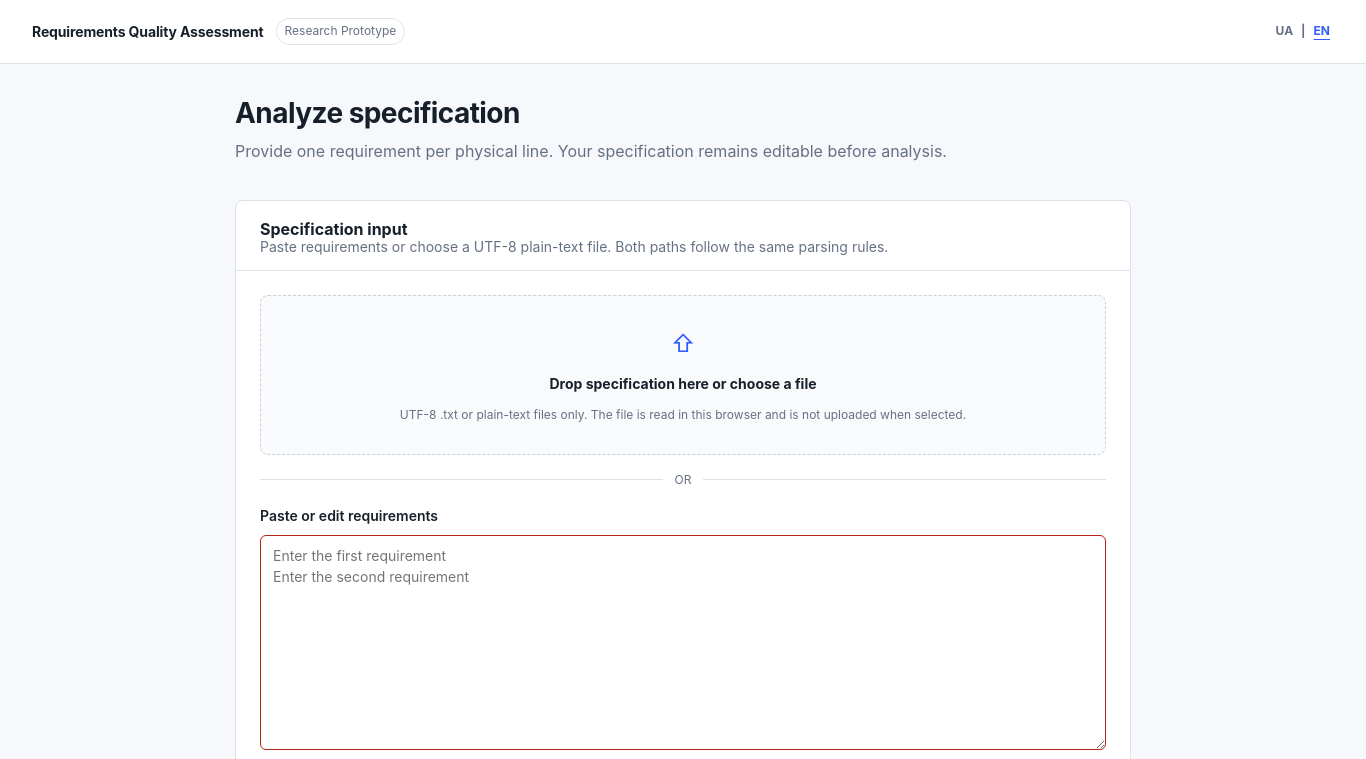
Scenario: RUI-10 Product Quality › opens Product Quality and switches locale without another analysis request or response mutation
The width and height of the screenshot is (1366, 759).
Type "Requirement" into the text box labelled "Paste or edit requirements". click: (683, 642)
box: [260, 535, 1106, 750]
(page scrolled)
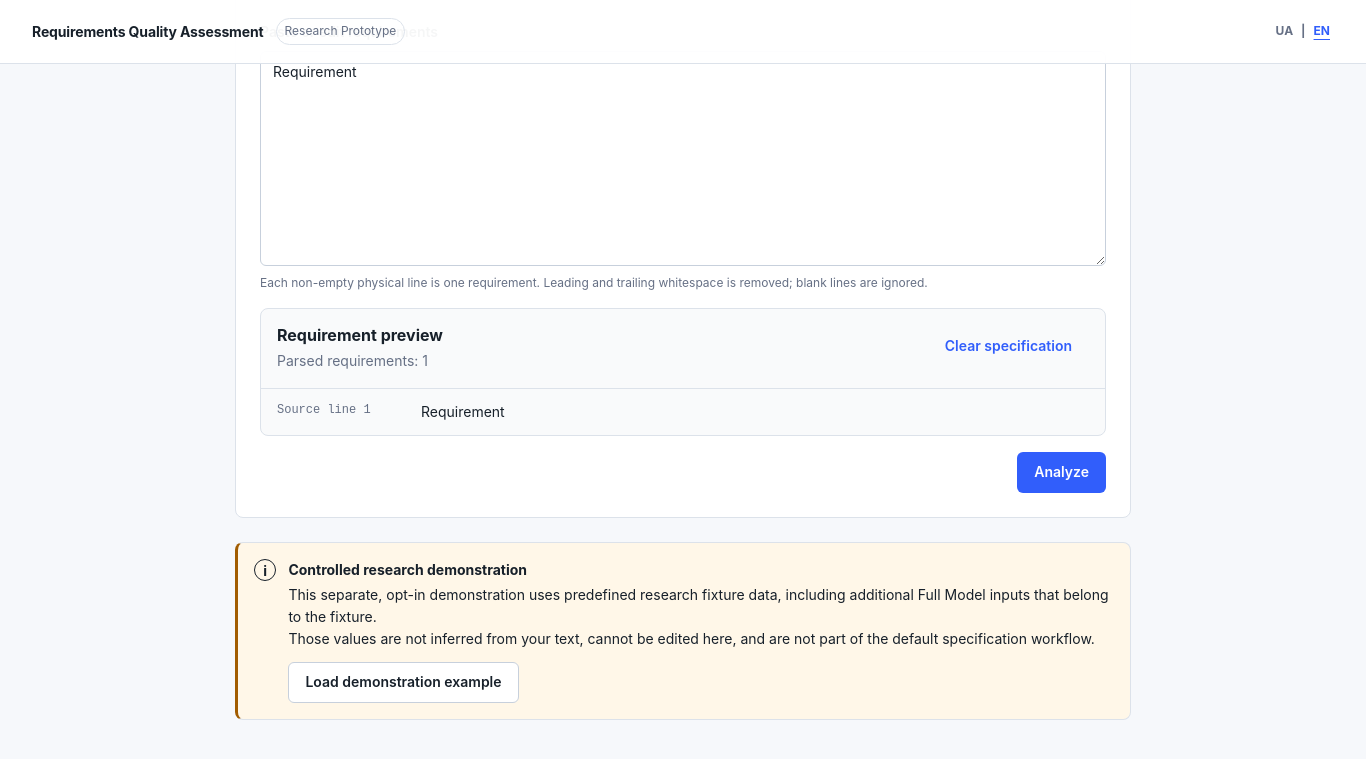
Click the button "Analyze". click: (1062, 472)
box: [1017, 452, 1106, 493]
(page scrolled)
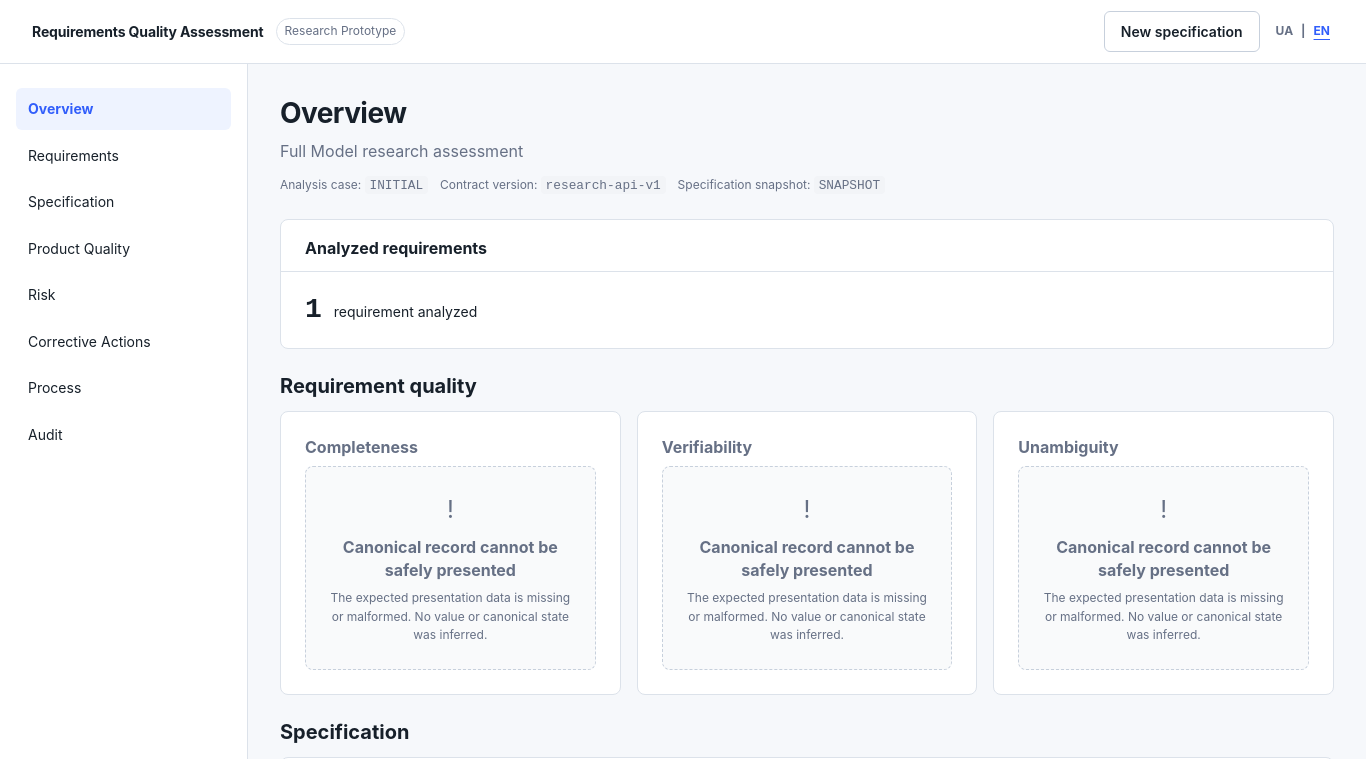
Expected: the heading "Overview" is shown, [280, 96, 406, 130]
Click the button "Product Quality". click: (124, 249)
box: [16, 227, 231, 270]
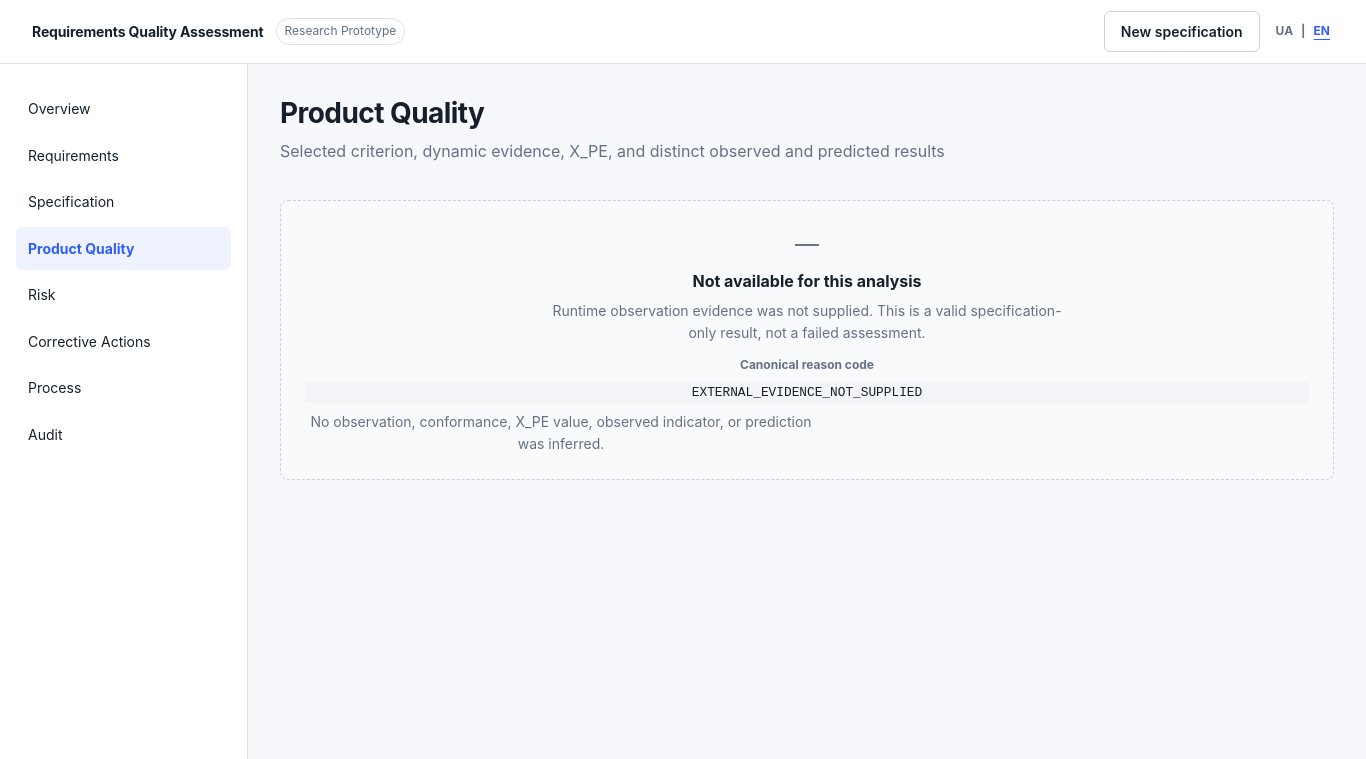
Expected: the text "EXTERNAL_EVIDENCE_NOT_SUPPLIED" is shown, [305, 382, 1309, 403]
Click the button with aria-label "Ukrainian". click: (1284, 32)
box: [1272, 18, 1297, 45]
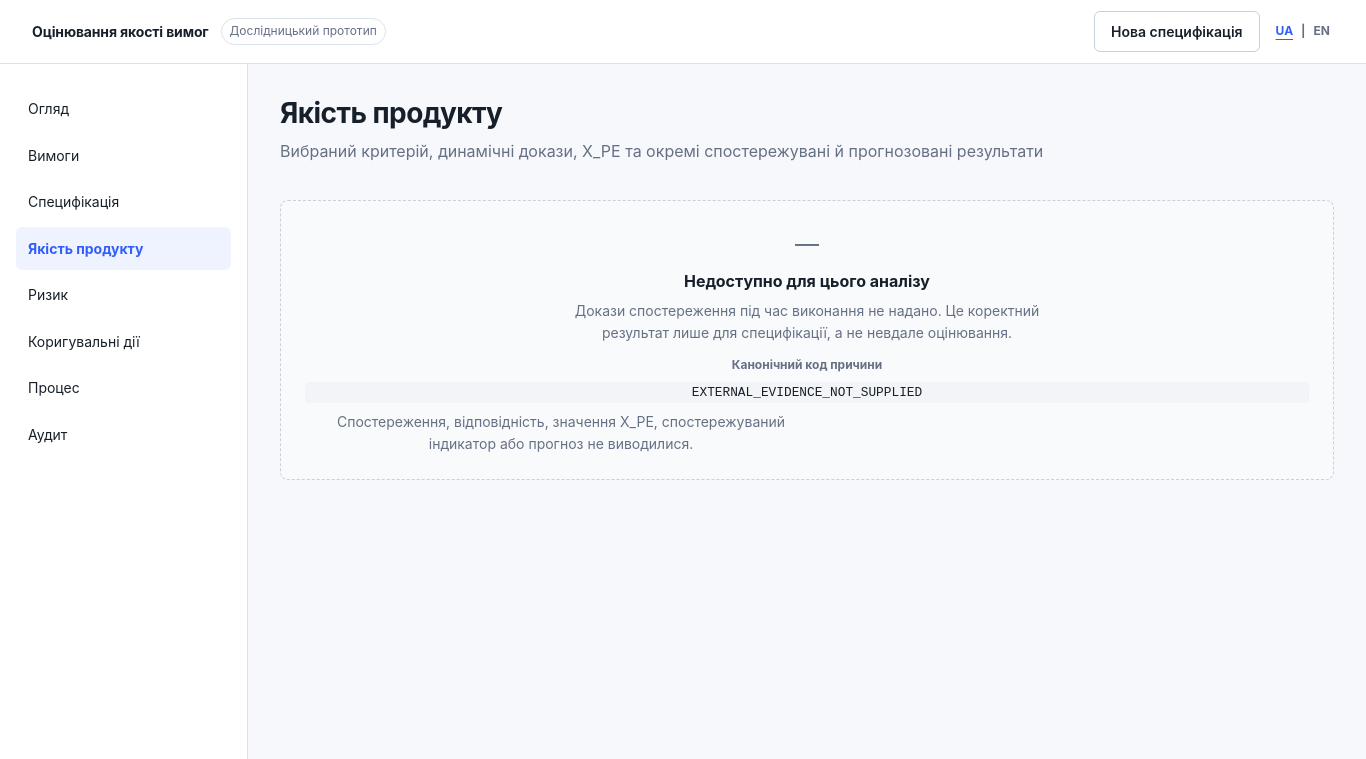
Expected: the heading "Якість продукту" is shown, [280, 96, 502, 130]
Click the button "Нова специфікація". click: (1177, 32)
box: [1094, 11, 1260, 52]
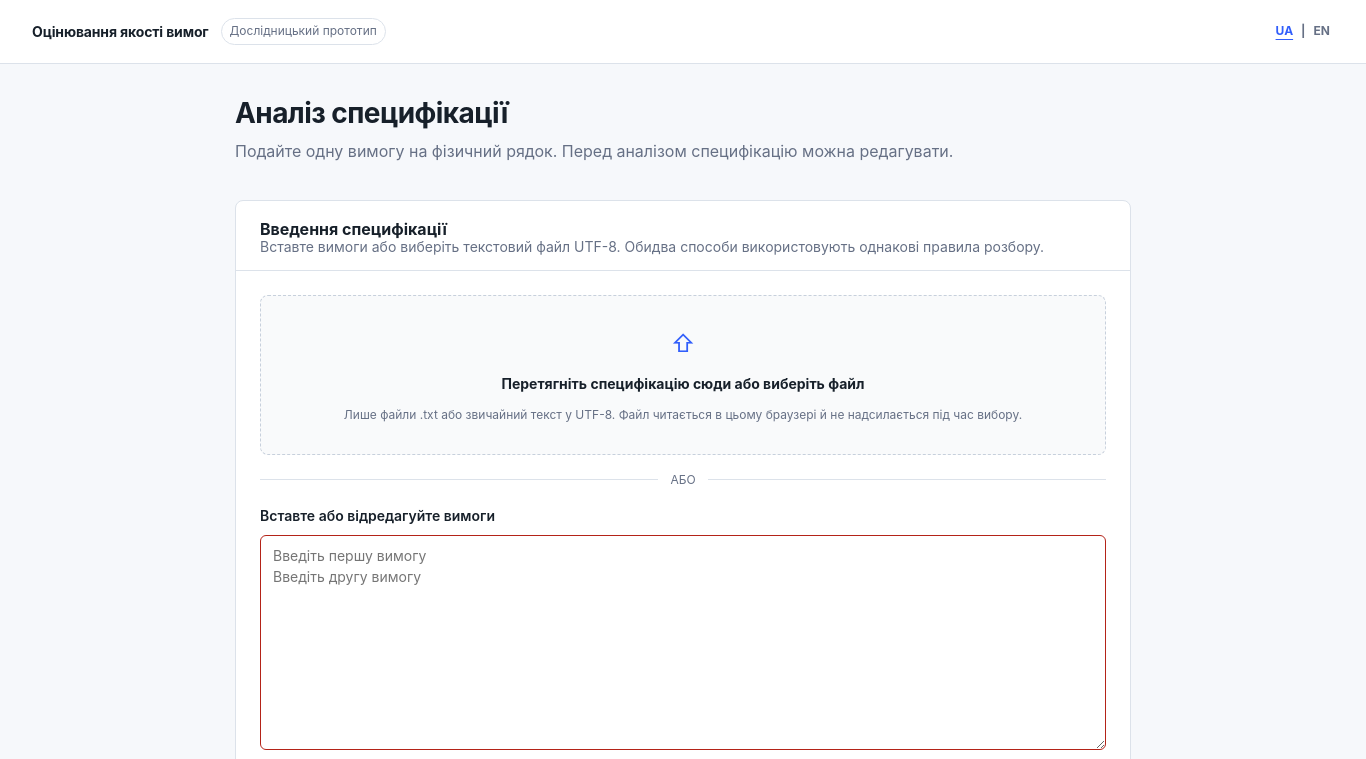
Expected: the heading "Аналіз специфікації" is shown, [235, 96, 508, 130]
Expected: the button "Якість продукту" is gone
